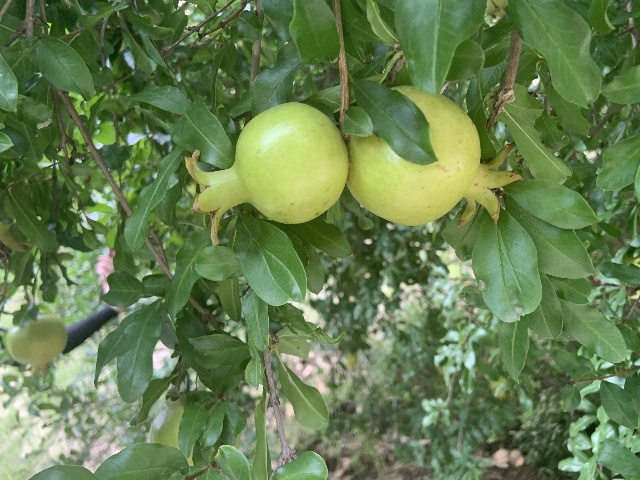mid-growth: (345, 85, 523, 228), (184, 102, 349, 246), (5, 312, 66, 380)
